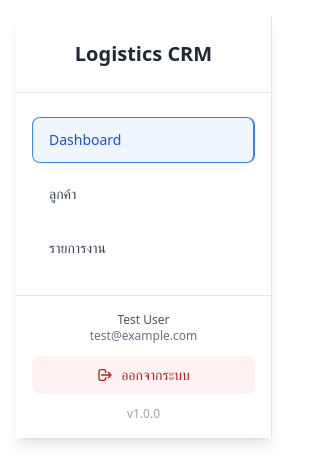
Sidebar - Logout Functionality › Logout Button States › should show loading state when logging out
The image size is (320, 464).
Step 1. Click the button "ออกจากระบบ" → point(144, 375), box left=32, top=356, right=255, bottom=394
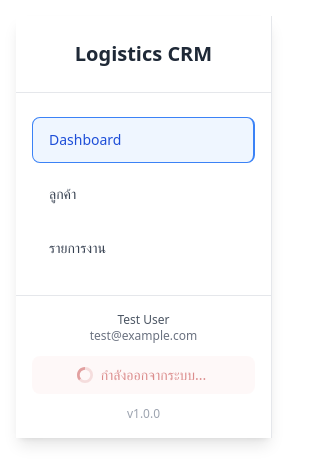
Check: the button "กำลังออกจากระบบ..." is disabled, box left=32, top=356, right=255, bottom=394
